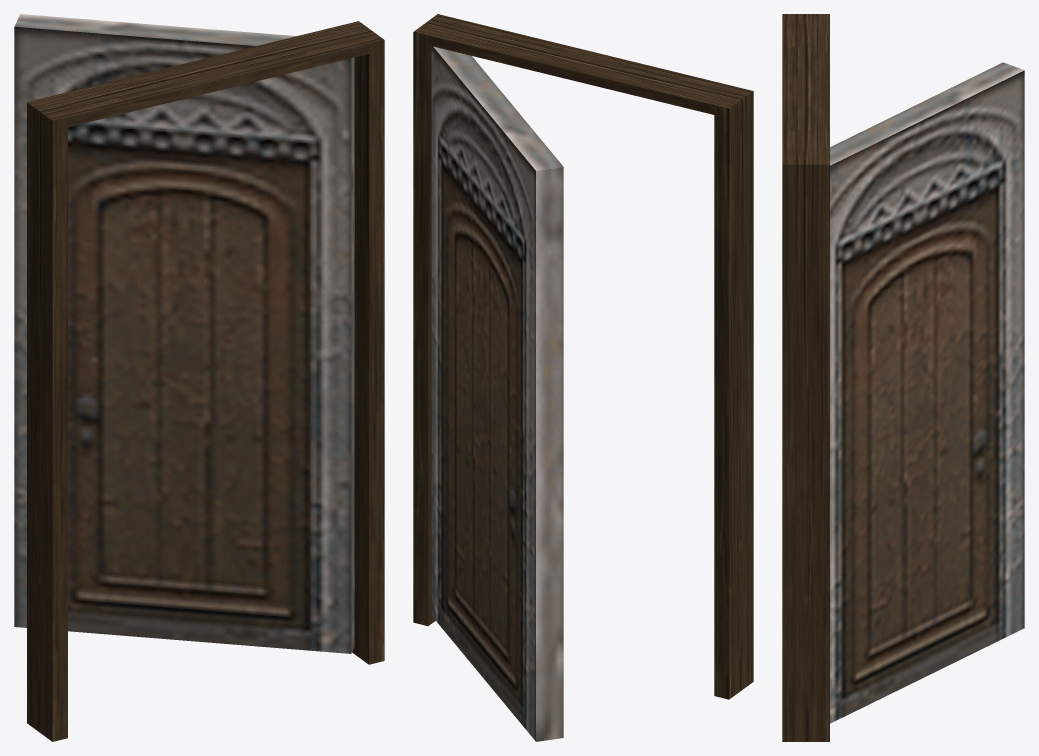
Rendered from porta-JP.fbx.
The picture shows the model from 3 angles, left to right: view 1: azimuth 30°, elevation 25°; view 2: azimuth 150°, elevation 25°; view 3: azimuth 270°, elevation 25°; orthographic projection. The views are drawn at different scales.
Visible parts, largest first — view 1: Cube.000, Cube.002; view 2: Cube.000, Cube.002; view 3: Cube.000, Cube.002.
Part boxes in pixels (x1=…): Cube.000: x1=14, y1=14, x2=354, y2=653; Cube.002: x1=27, y1=21, x2=384, y2=741; Cube.000: x1=431, y1=46, x2=563, y2=741; Cube.002: x1=413, y1=14, x2=753, y2=699; Cube.000: x1=830, y1=62, x2=1024, y2=723; Cube.002: x1=782, y1=14, x2=829, y2=741.
Bounding box in the file's own units: 1.01 × 1.81 × 0.6899.
